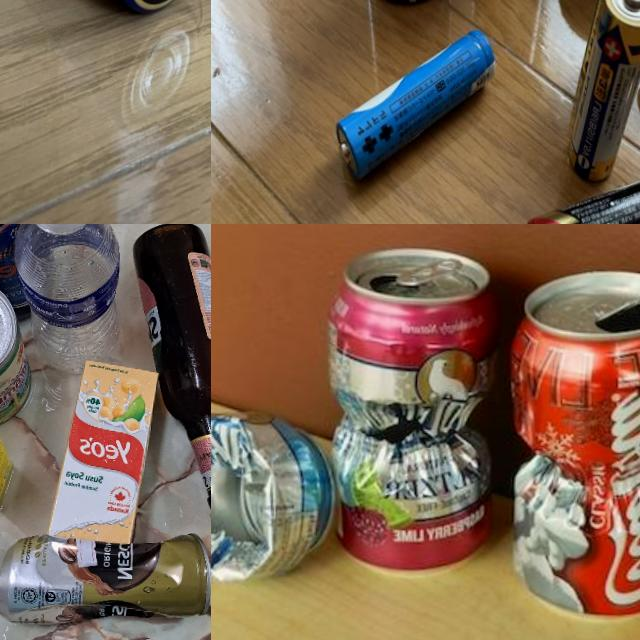aba de lata: (397, 255, 462, 289), (596, 288, 640, 324)
bateria: (336, 19, 500, 184), (564, 0, 640, 188), (515, 152, 640, 224), (578, 0, 640, 87)
caixinha: (48, 359, 159, 544)
garrafa de vidro: (120, 224, 211, 526)
garrafa plástica: (8, 224, 124, 375)
lata: (320, 242, 503, 574), (500, 266, 640, 620), (0, 521, 211, 632), (0, 272, 37, 429)
